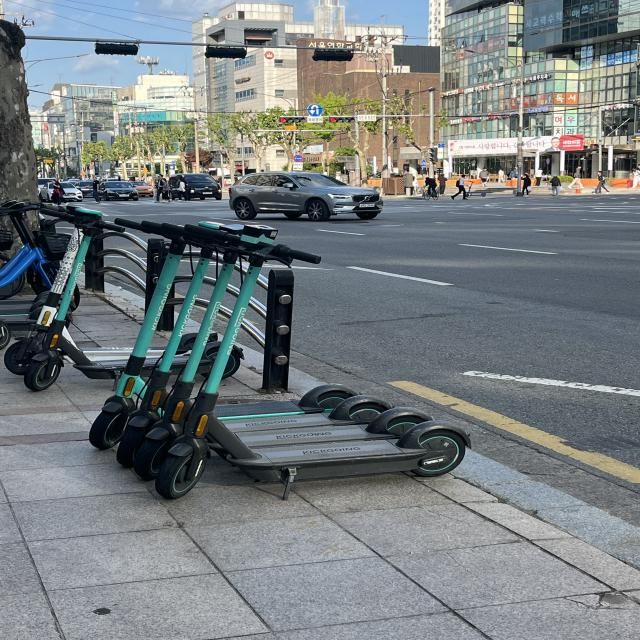curb: (452, 450, 638, 566), (290, 369, 323, 395), (243, 346, 263, 370)
kick-board: (88, 220, 470, 499)
lane: (388, 381, 640, 484)
road: (257, 194, 640, 465)
sidewalk: (2, 370, 638, 640)
verge: (293, 351, 638, 525)
